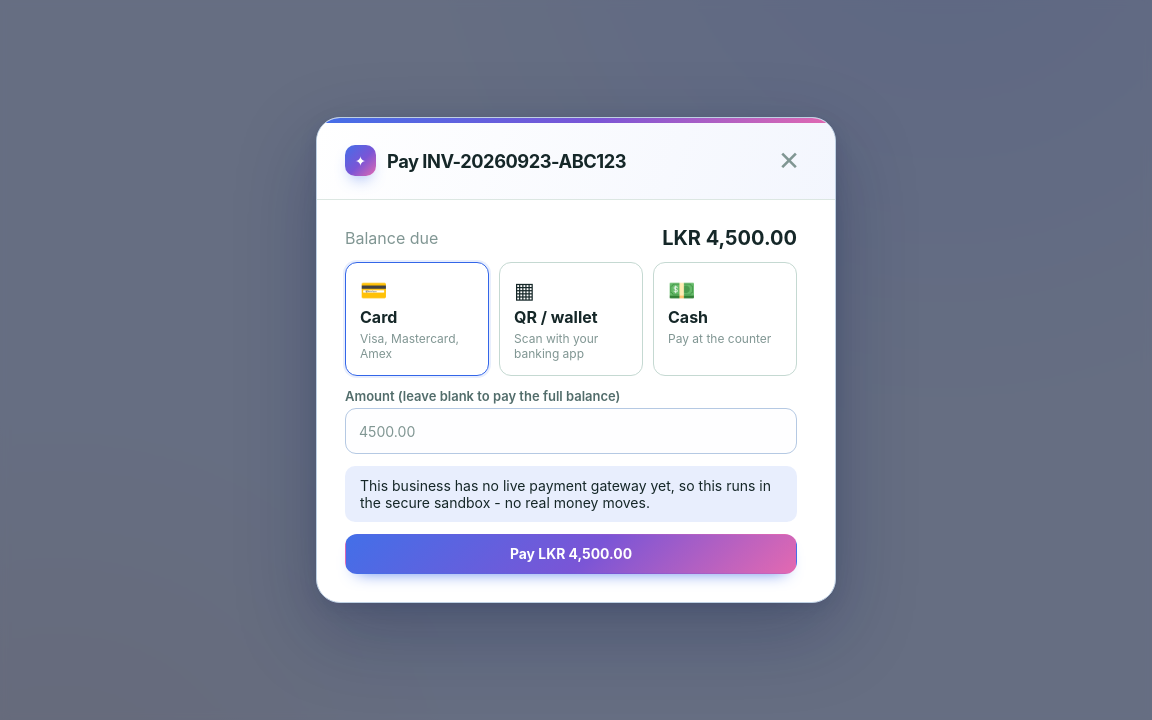
<PaymentFlowModal /> › shows the server error when checkout fails
The width and height of the screenshot is (1152, 720).
Click the button "Pay LKR 4,500.00".
click(571, 554)  # box [345, 534, 797, 574]
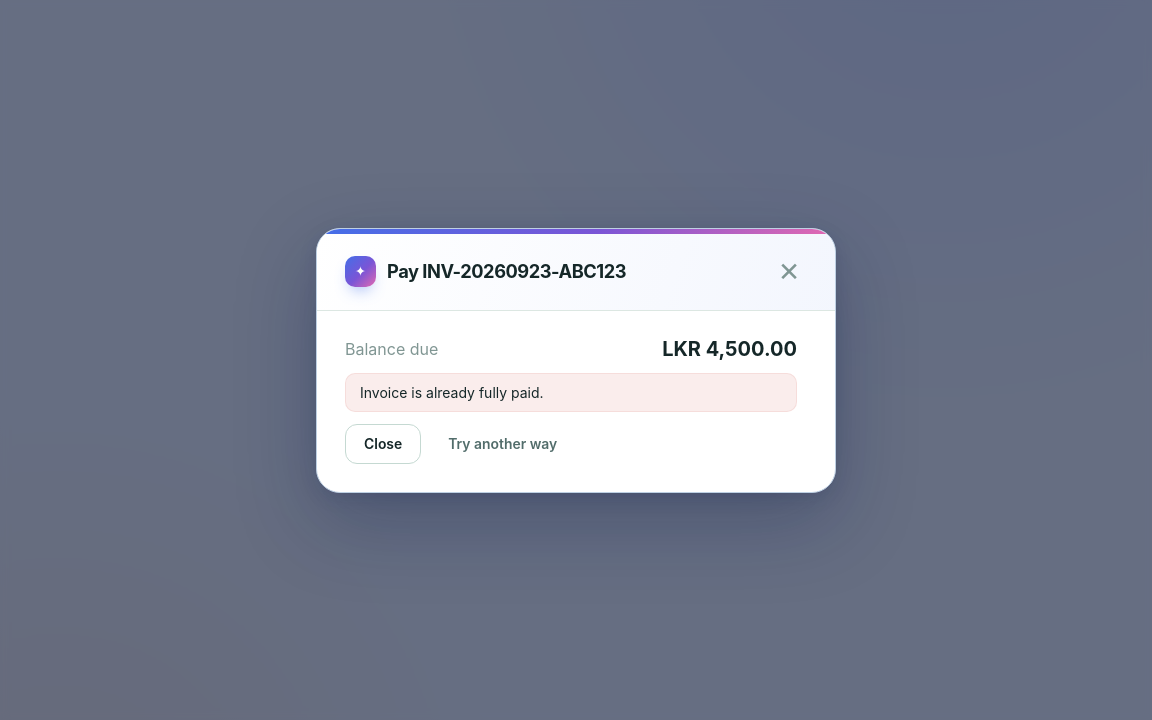
Now the message reads "Invoice is already fully paid.", box [360, 384, 544, 400]
